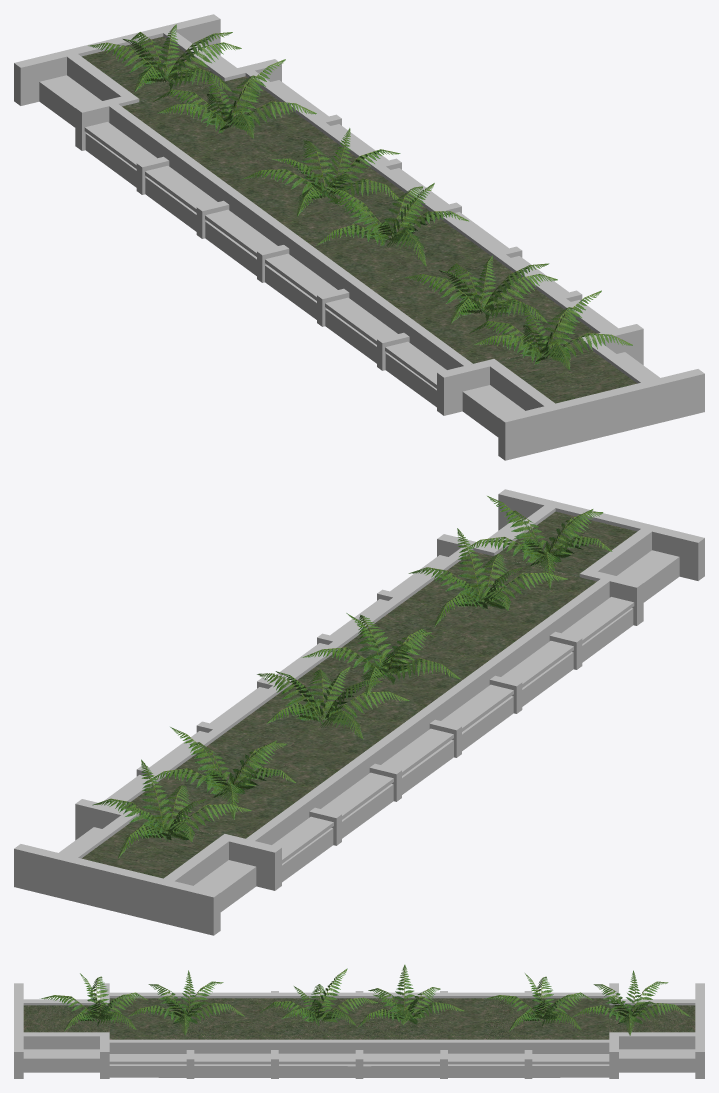
File: Park-04.fbx
The picture shows the model from 3 angles, top to bottom: view 1: azimuth 30°, elevation 25°; view 2: azimuth 150°, elevation 25°; view 3: azimuth 270°, elevation 25°; orthographic projection. The views are drawn at different scales.
Parts seen in each view (by area): view 1: Park-04, Park-04-Grass, Plants; view 2: Park-04, Park-04-Grass, Plants; view 3: Park-04, Park-04-Grass, Plants.
Boxes of the visible parts, box(x1,y1,x2,y2) form: Park-04: box(14, 14, 704, 460); Park-04-Grass: box(82, 36, 636, 403); Plants: box(88, 24, 632, 369); Park-04: box(14, 489, 704, 935); Park-04-Grass: box(82, 511, 636, 878); Plants: box(92, 496, 612, 858); Park-04: box(14, 983, 704, 1078); Park-04-Grass: box(23, 998, 695, 1039); Plants: box(41, 964, 689, 1035).
Size of what is drawn, in the model's own units: 4.23 by 1.76 by 17.99.
